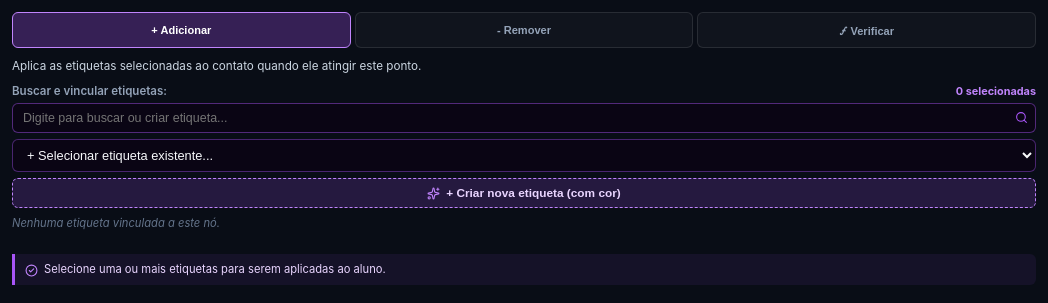
FunnelNodeTagActionSection Component › permite digitar no campo de busca e filtra as tags em tempo real
This screenshot has width=1048, height=303.
Step 1. Type "Mentoria" into the field with test id "funnel-node-tag-search-input-node_1" → (524, 118), box [12,103,1036,133]
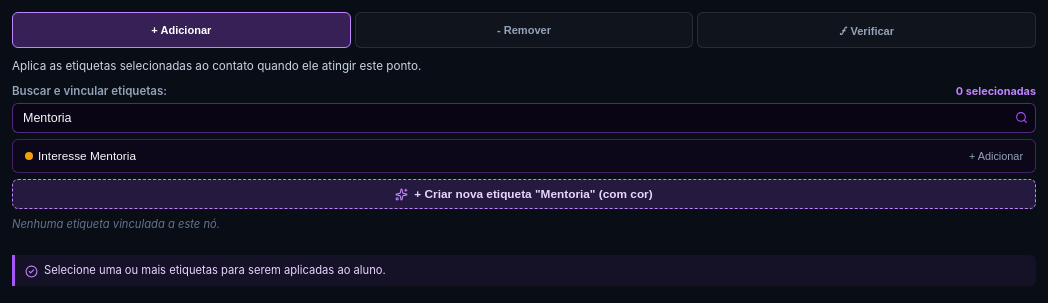
Check: the element with test id "funnel-node-tag-filtered-list-node_1" is shown, box [12,139,1036,173]
Check: the text "Interesse Mentoria" is shown, box [38,149,136,163]
